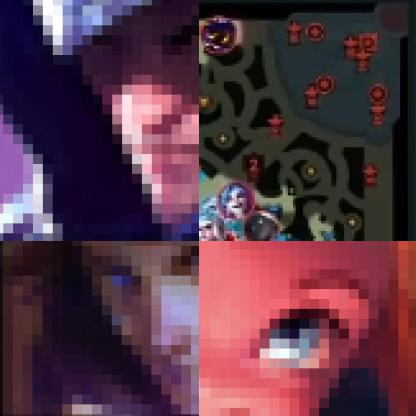Ezreal: (0, 241, 198, 415)
Janna: (199, 214, 227, 240)
Jinx: (219, 182, 256, 221)
Lee Sin: (204, 228, 244, 240)
Senna: (242, 208, 283, 240)
Talon: (0, 0, 198, 240)
Veigar: (201, 20, 240, 56)
Zoe: (199, 241, 415, 415)
